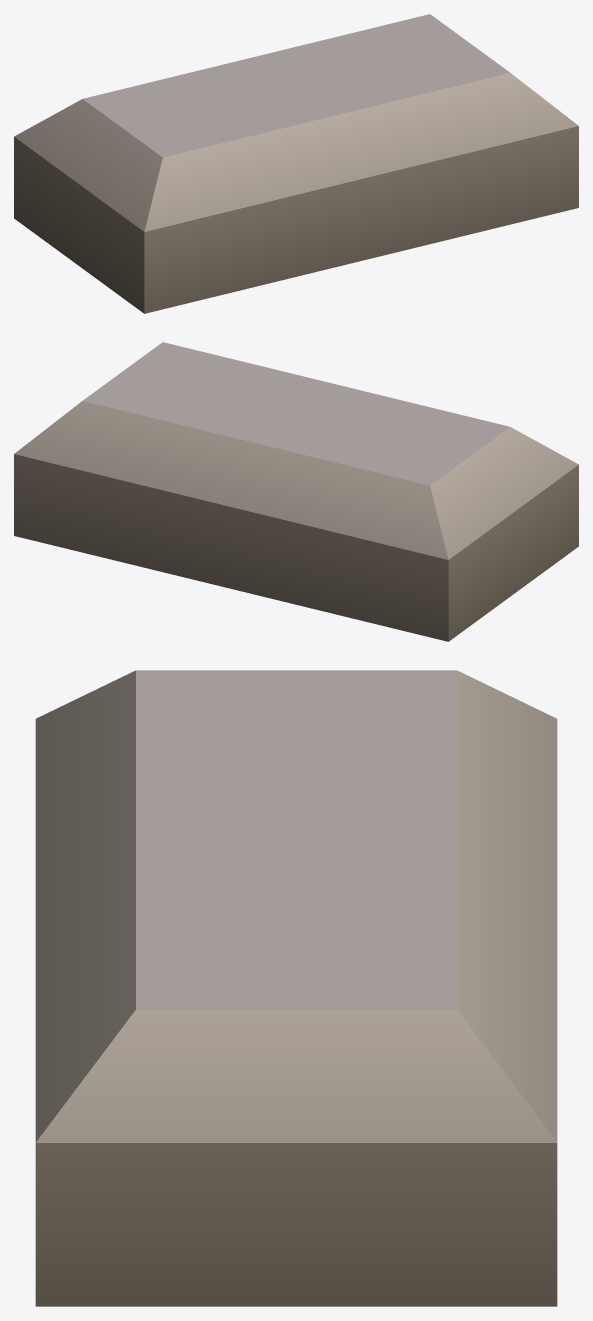
File: bioplastic.glb
The picture shows the model from 3 angles, top to bottom: view 1: azimuth 30°, elevation 25°; view 2: azimuth 150°, elevation 25°; view 3: azimuth 270°, elevation 25°; orthographic projection. The views are drawn at different scales.
Visible parts, largest first — view 1: bioplastic; view 2: bioplastic; view 3: bioplastic.
Part boxes in pixels (x1=…): bioplastic: x1=14, y1=14, x2=578, y2=313; bioplastic: x1=14, y1=342, x2=578, y2=641; bioplastic: x1=35, y1=670, x2=557, y2=1306.
Bounding box in the file's own units: 0.25 × 0.07 × 0.13.
